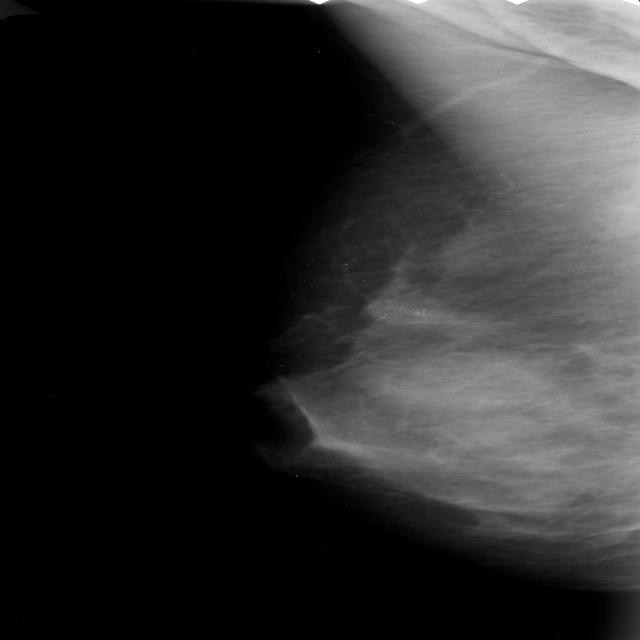normal: (239, 0, 640, 571)
